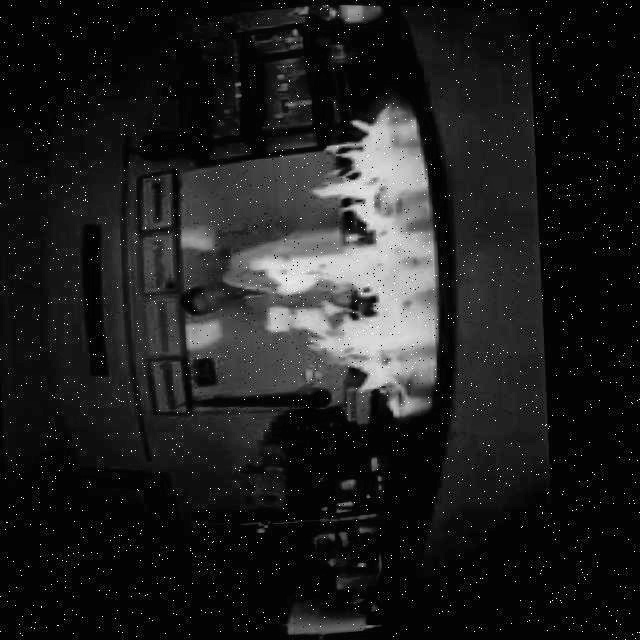Fire: (225, 88, 432, 429)
